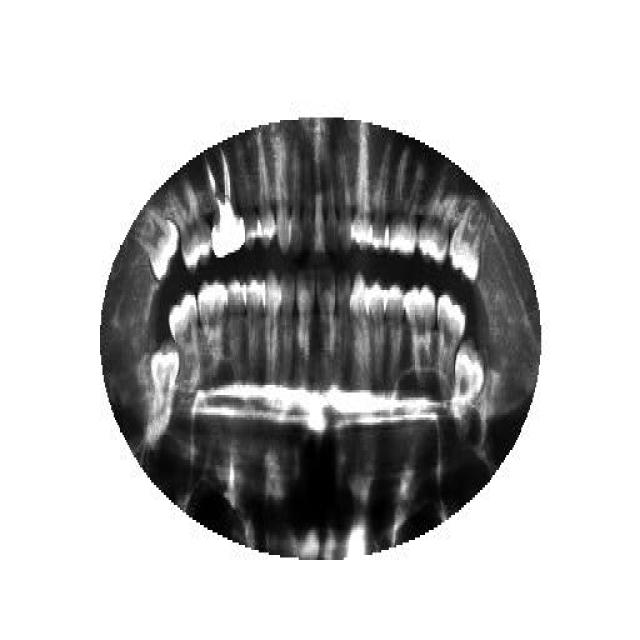Impacted Tooth: (132, 207, 182, 285), (450, 338, 488, 428), (149, 338, 180, 428)
Implant: (204, 150, 246, 260)
